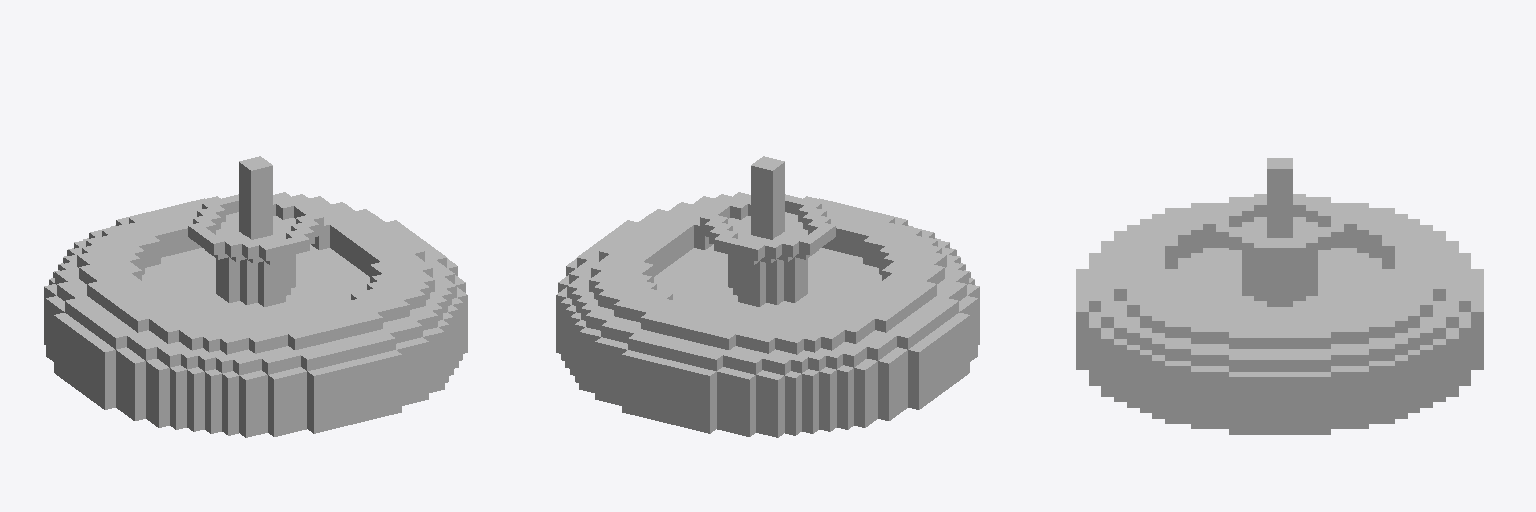
Rendered from fountain.obj.
3 renders of one model, left to right at view 1: azimuth 30°, elevation 25°; view 2: azimuth 150°, elevation 25°; view 3: azimuth 270°, elevation 25°, orthographic.
Size of the model in its own units: 32 by 16 by 32.